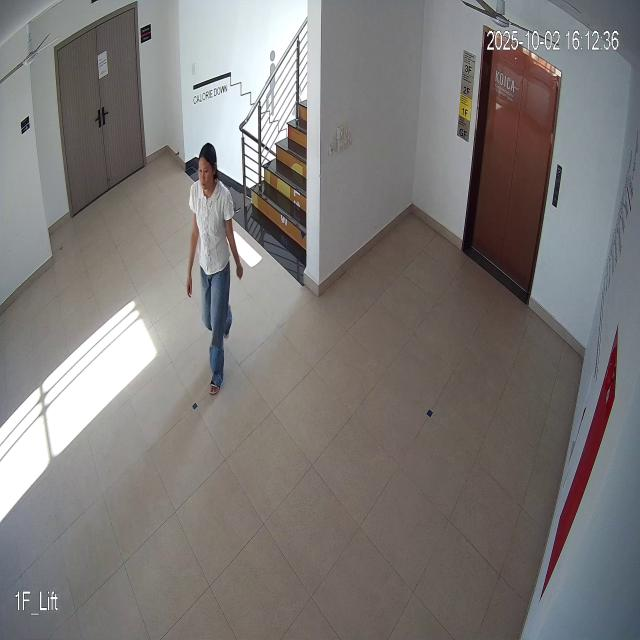face: (192, 138, 218, 200)
